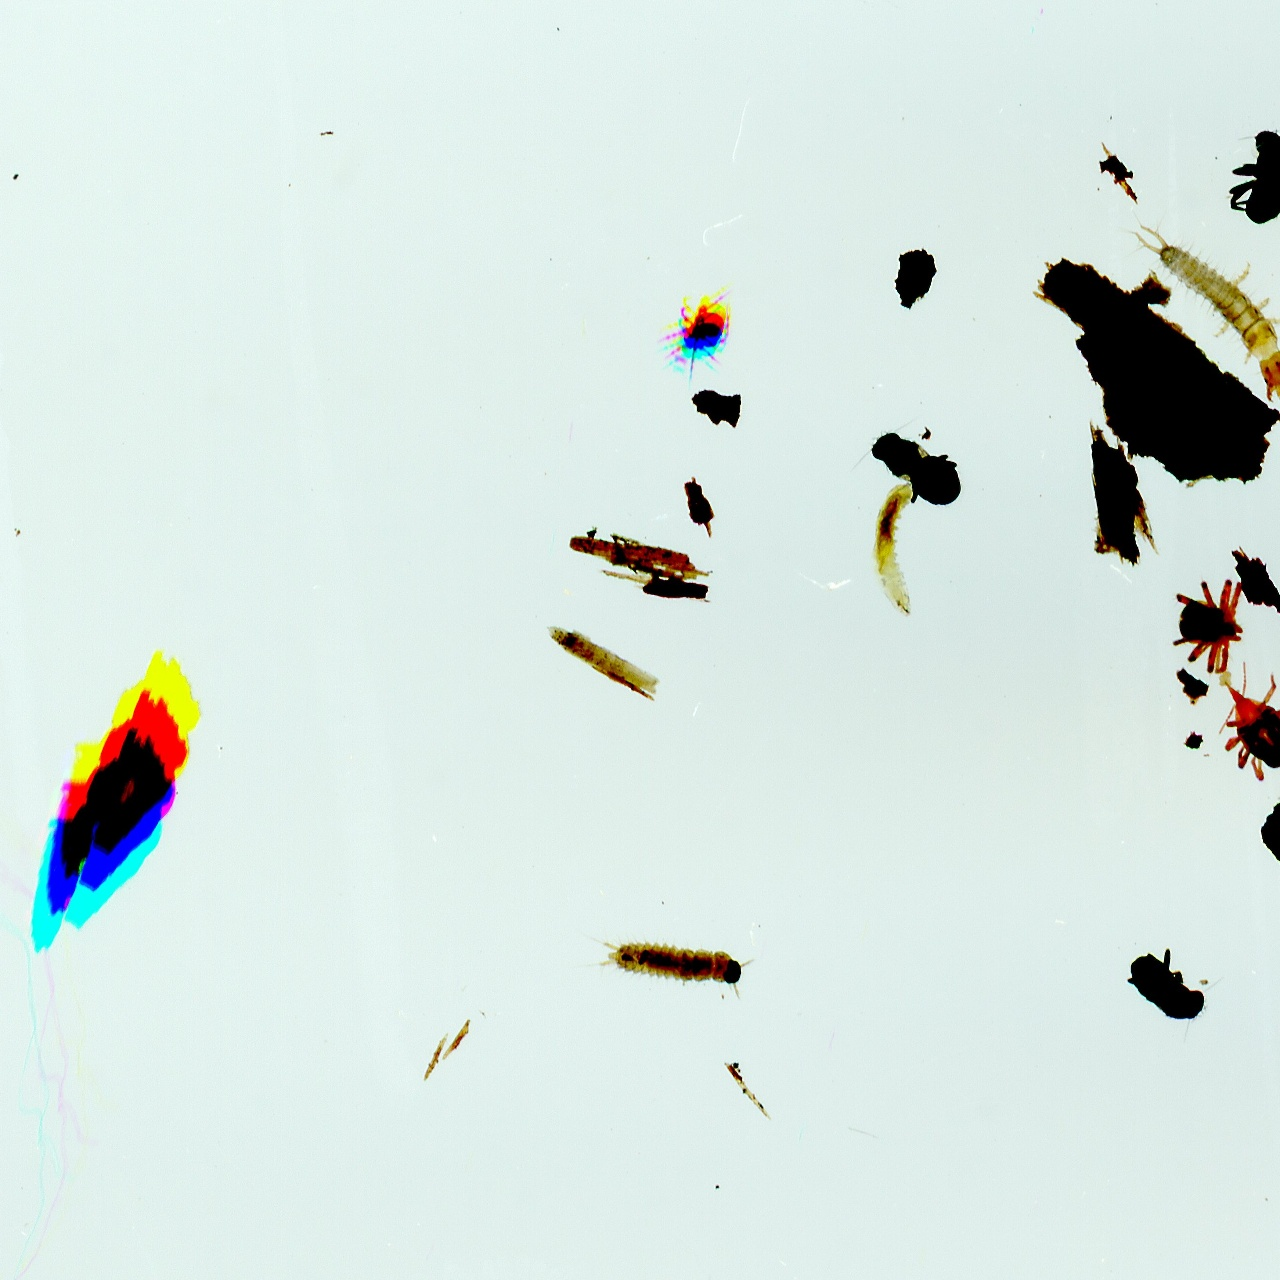arthropod: (1102, 168, 1280, 422), (560, 901, 774, 1032), (843, 395, 989, 542), (1123, 945, 1230, 1048), (865, 477, 921, 626), (652, 288, 740, 383), (1216, 659, 1280, 784), (1170, 578, 1245, 676), (1227, 124, 1280, 230)
